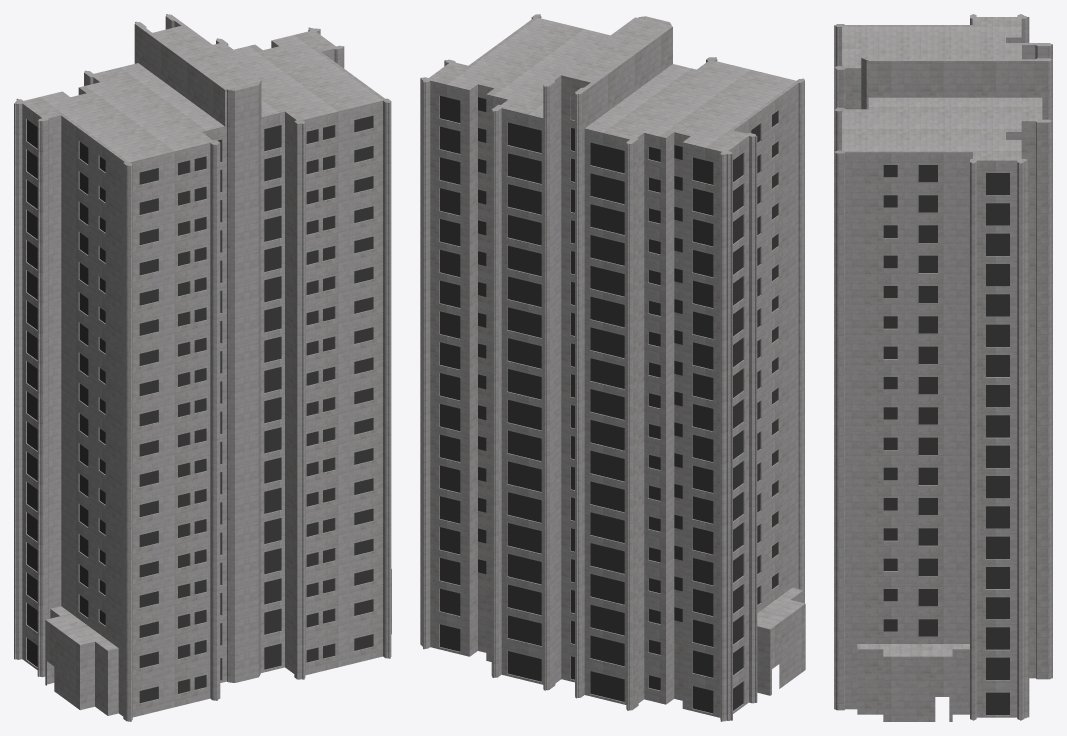
The model's file is Zone-5-Diagonal.FBX.
3 views of the same model, side by side, from view 1: azimuth 30°, elevation 25°; view 2: azimuth 150°, elevation 25°; view 3: azimuth 270°, elevation 25° (orthographic).
Parts seen in each view (by area): view 1: BLD-2-Exterior-Ground001; view 2: BLD-2-Exterior-Ground001; view 3: BLD-2-Exterior-Ground001.
Part boxes in pixels (x1,y1,x2,y2): BLD-2-Exterior-Ground001: (14, 14, 391, 721); BLD-2-Exterior-Ground001: (420, 14, 805, 721); BLD-2-Exterior-Ground001: (834, 14, 1052, 721).
Size of the model in its own units: 23 by 41.75 by 13.95.
